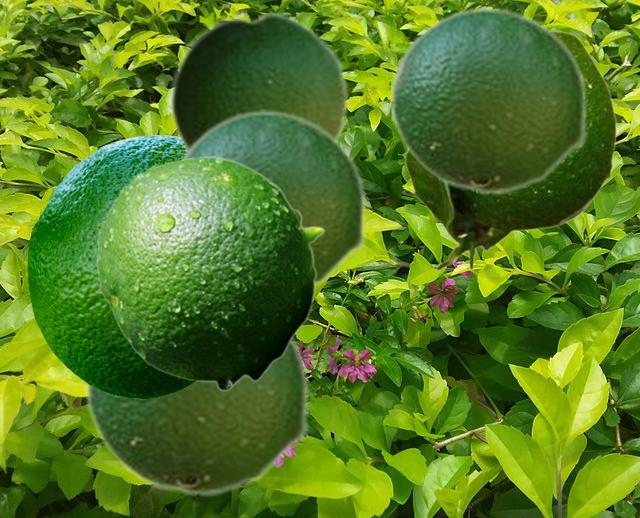dalandan: (96, 155, 324, 391), (401, 30, 616, 271), (27, 135, 198, 397), (389, 6, 587, 195), (84, 335, 309, 497), (176, 109, 366, 289), (168, 9, 349, 150)
